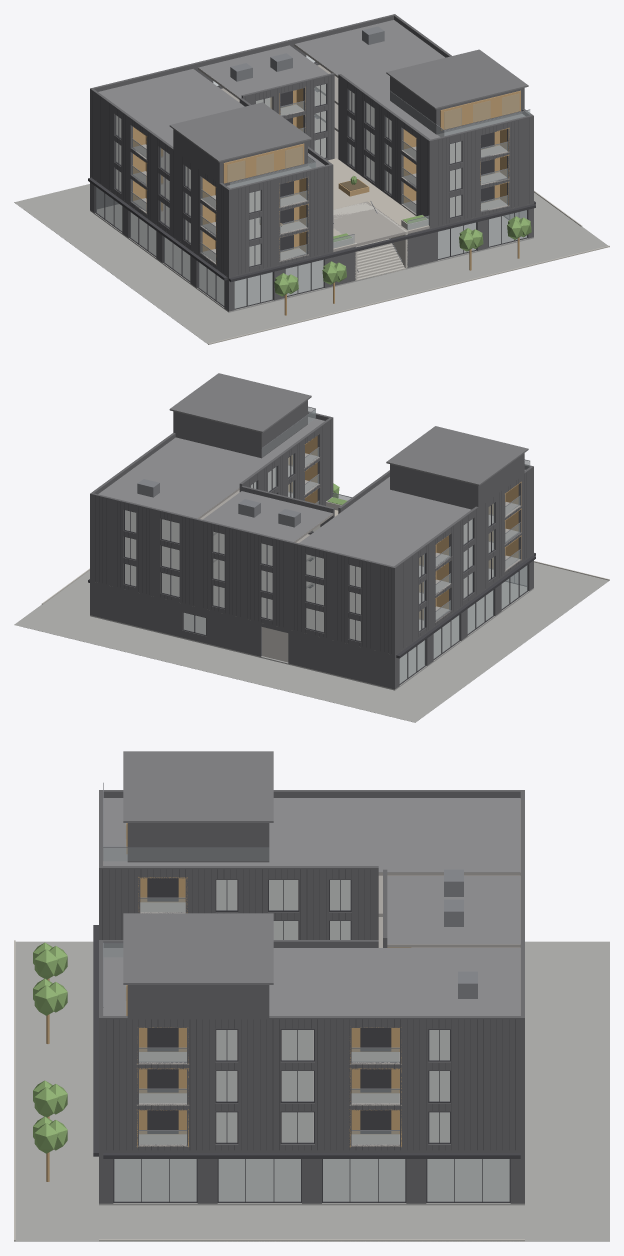
File: clay-courtyard-mixed-use-midrise-clay-v001.glb
3 renders of one model, top to bottom at view 1: azimuth 30°, elevation 25°; view 2: azimuth 150°, elevation 25°; view 3: azimuth 270°, elevation 25°, orthographic. The views are drawn at different scales.
Visible parts, largest first — view 1: CLAY_WALL, CLAY_FOUNDATION, CLAY_GLASS, CLAY_MEMBRANE, CLAY_FLOOR, CLAY_ROOF, CLAY_TRIM, CLAY_CEDAR, CLAY_JOINT, CLAY_CONCRETE, CLAY_PLANTING, CLAY_HARDWARE (+3 smaller); view 2: CLAY_WALL, CLAY_FOUNDATION, CLAY_MEMBRANE, CLAY_GLASS, CLAY_ROOF, CLAY_FLOOR, CLAY_JOINT, CLAY_TRIM, CLAY_CEDAR, CLAY_HARDWARE, CLAY_PALE; view 3: CLAY_FOUNDATION, CLAY_WALL, CLAY_MEMBRANE, CLAY_GLASS, CLAY_ROOF, CLAY_FLOOR, CLAY_TRIM, CLAY_JOINT, CLAY_CEDAR, CLAY_PLANTING, CLAY_HARDWARE, CLAY_STONE.
Boxes of the visible parts, box(x1,y1,x2,y2) form: CLAY_WALL: box(90, 14, 533, 311); CLAY_FOUNDATION: box(14, 184, 609, 344); CLAY_GLASS: box(96, 55, 530, 308); CLAY_MEMBRANE: box(98, 20, 525, 188); CLAY_FLOOR: box(116, 44, 509, 266); CLAY_ROOF: box(169, 49, 528, 162); CLAY_TRIM: box(88, 61, 535, 309); CLAY_CEDAR: box(133, 87, 520, 264); CLAY_JOINT: box(92, 76, 529, 274); CLAY_CONCRETE: box(333, 203, 428, 280); CLAY_PLANTING: box(274, 176, 531, 296); CLAY_HARDWARE: box(131, 26, 530, 272); CLAY_WALL: box(90, 400, 533, 689); CLAY_FOUNDATION: box(14, 562, 609, 722); CLAY_MEMBRANE: box(98, 417, 525, 566); CLAY_GLASS: box(125, 407, 530, 683); CLAY_ROOF: box(169, 373, 528, 485); CLAY_FLOOR: box(125, 453, 521, 640); CLAY_JOINT: box(95, 420, 526, 653); CLAY_TRIM: box(88, 453, 535, 684); CLAY_CEDAR: box(288, 436, 521, 619); CLAY_HARDWARE: box(137, 406, 529, 611); CLAY_PALE: box(262, 627, 288, 662); CLAY_FOUNDATION: box(14, 941, 609, 1241); CLAY_WALL: box(99, 790, 524, 1203); CLAY_MEMBRANE: box(103, 798, 520, 1015); CLAY_GLASS: box(103, 823, 509, 1201); CLAY_ROOF: box(123, 751, 273, 984); CLAY_FLOOR: box(103, 798, 520, 1146); CLAY_TRIM: box(93, 878, 520, 1202); CLAY_JOINT: box(102, 869, 515, 1150); CLAY_CEDAR: box(126, 823, 410, 1147); CLAY_PLANTING: box(33, 942, 67, 1153); CLAY_HARDWARE: box(103, 782, 477, 1130); CLAY_STONE: box(14, 940, 524, 1241).
Bounding box in the file's own units: 50 × 17.46 × 42.
